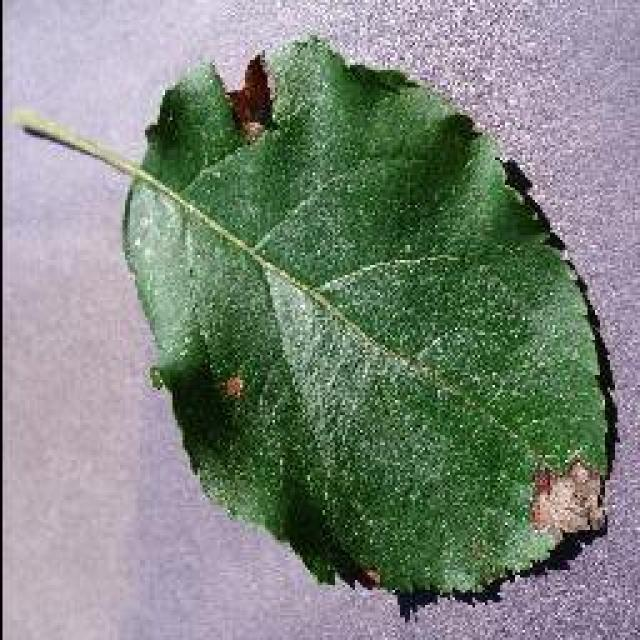Black_rot: (15, 30, 620, 605)
